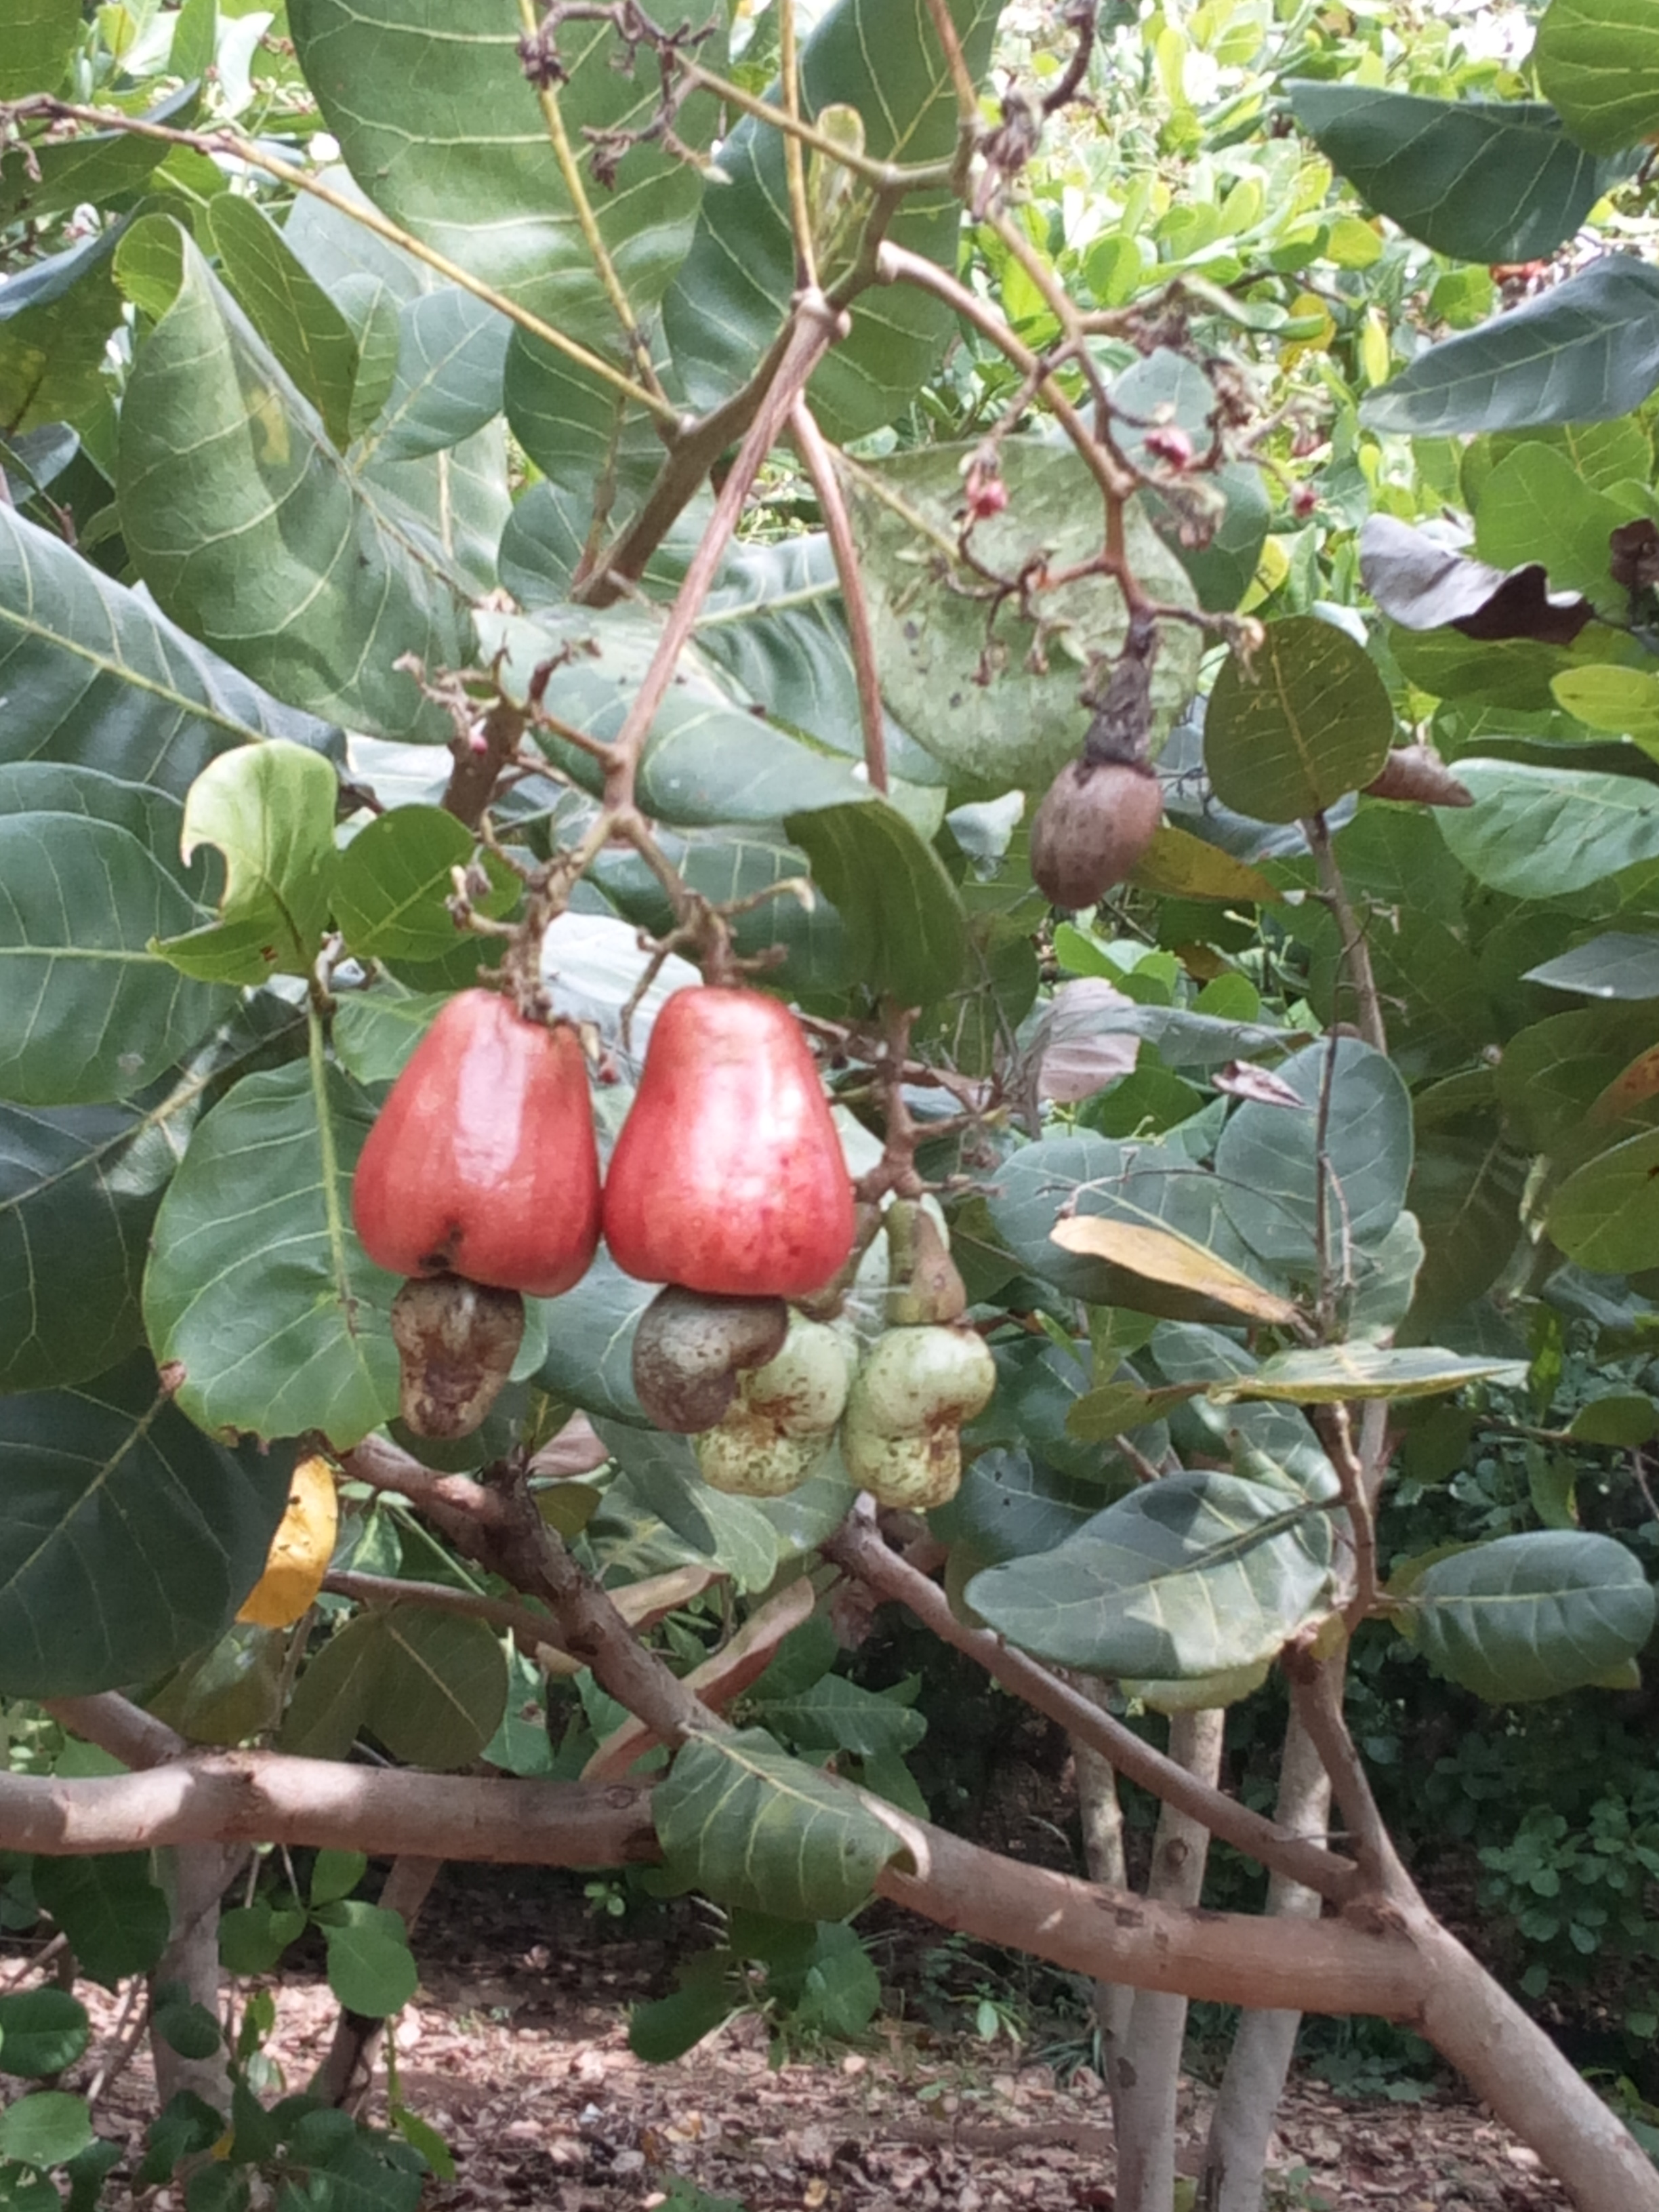Die-black: (610, 1271, 826, 1442), (1006, 740, 1192, 906), (378, 1271, 554, 1442)
